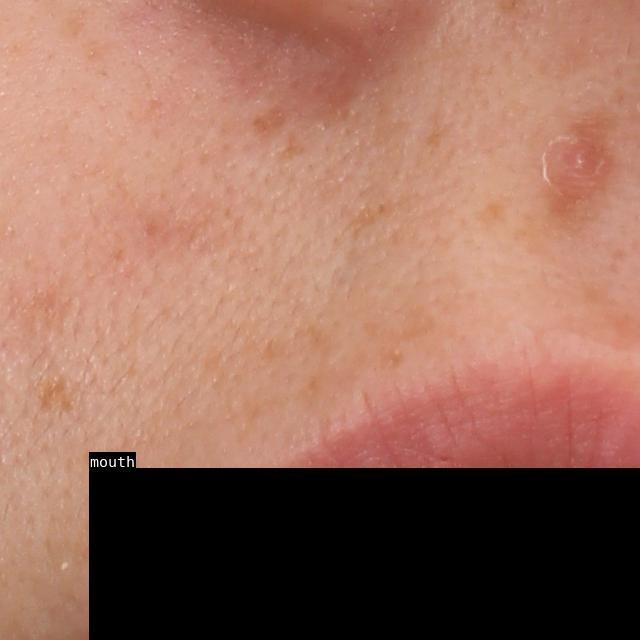melasma: (35, 369, 83, 423), (249, 104, 291, 136)
